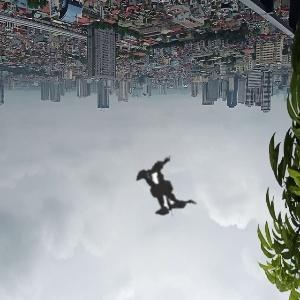drone: (74, 107, 253, 286)
